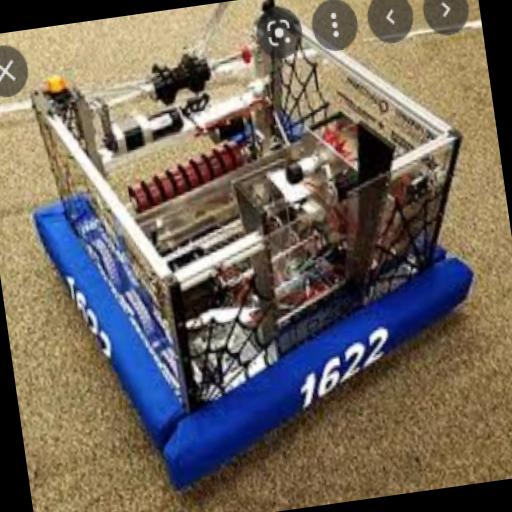robot: (11, 0, 505, 509)
